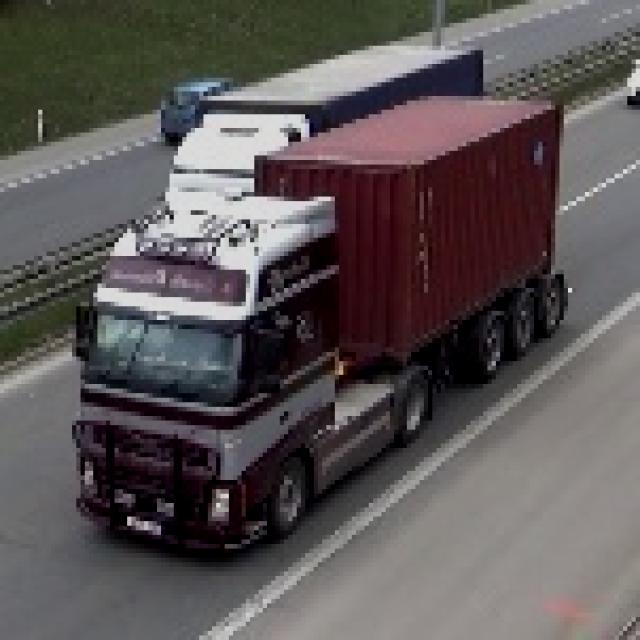TRUCK: (70, 107, 566, 578)
